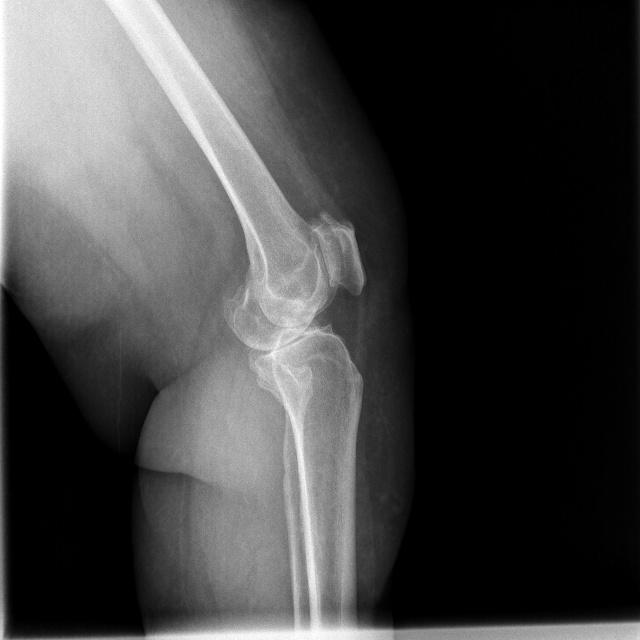Knee: (219, 204, 371, 402)
